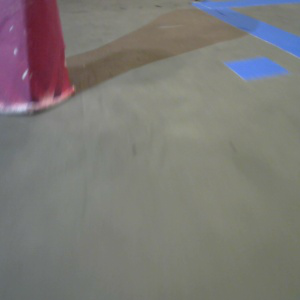middle: (1, 1, 76, 114)
